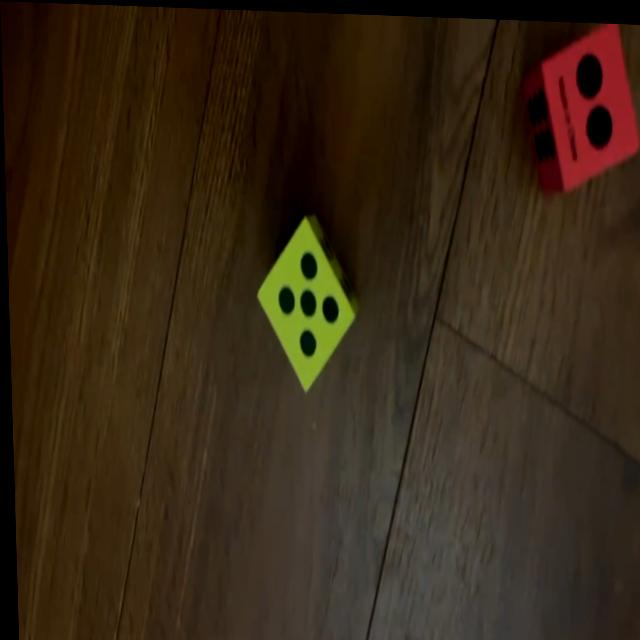cube: (521, 16, 639, 189)
